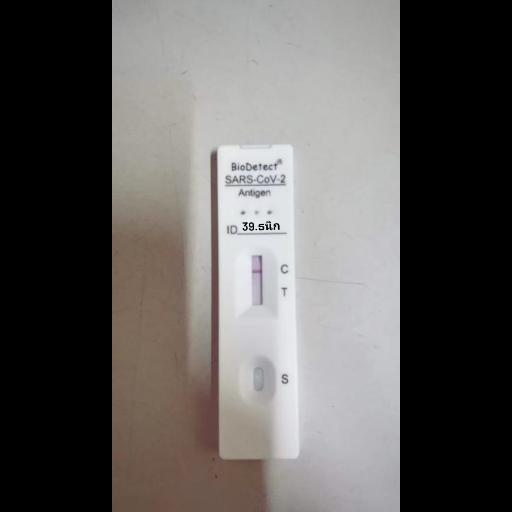Neg: (216, 144, 298, 458)
